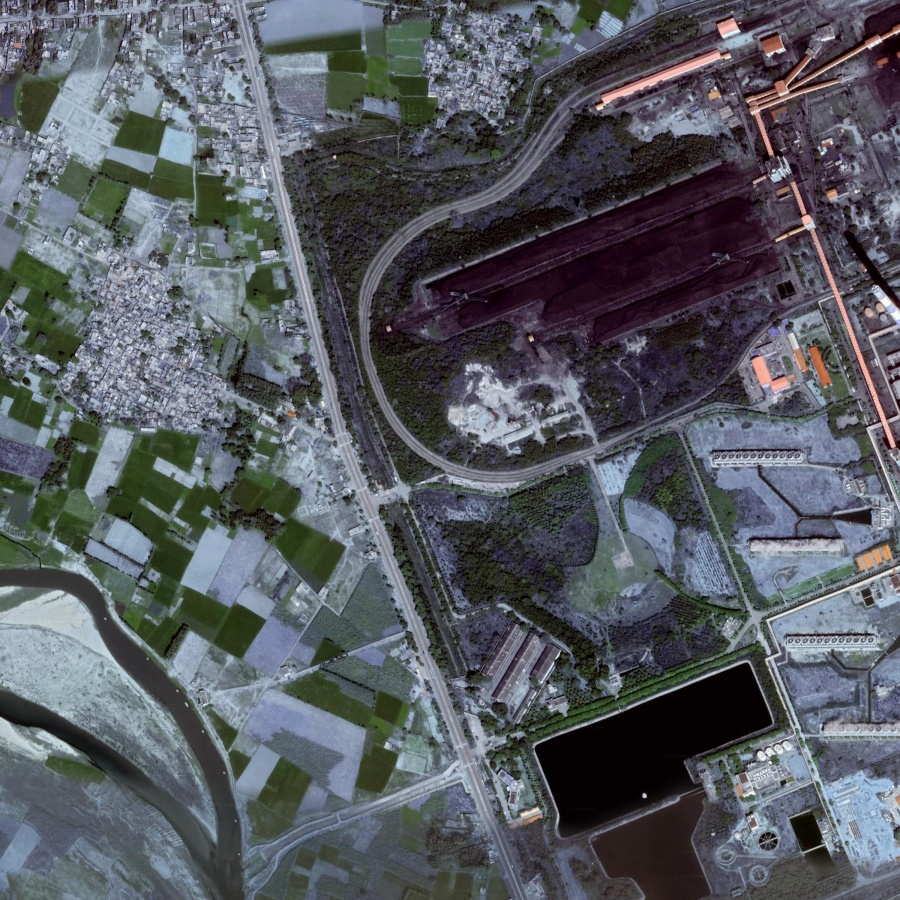PowerPlant: (514, 653, 784, 881)
